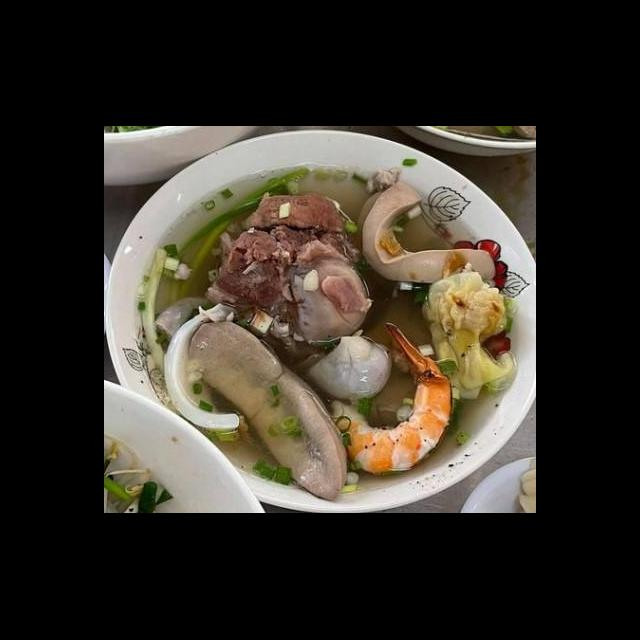thit heo: (200, 188, 376, 358)
tom: (320, 320, 457, 480)
